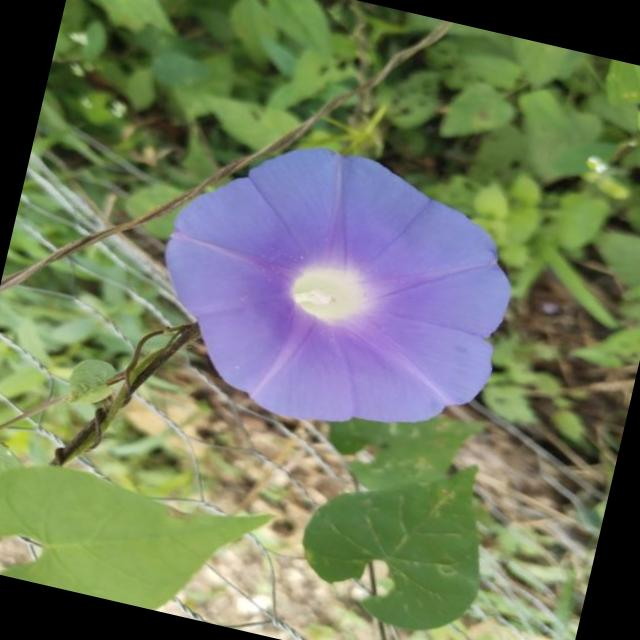ipomoea: (130, 114, 538, 464)
